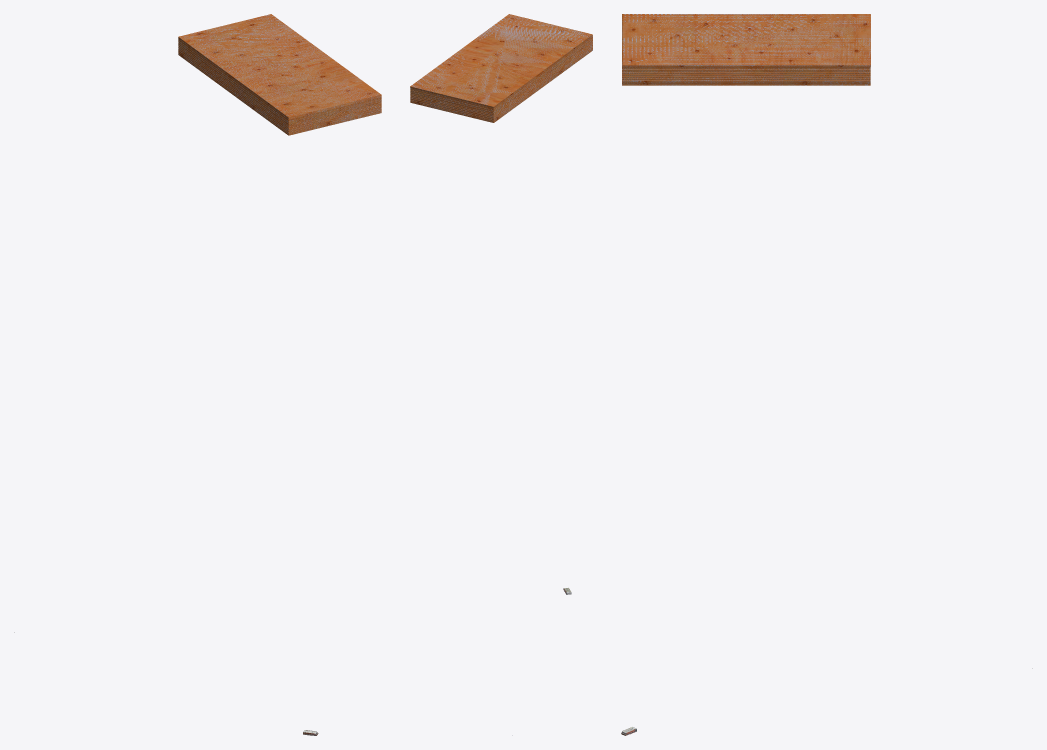
The model's file is PlywoodFacility.dae.
3 views of the same model, side by side, from view 1: azimuth 30°, elevation 25°; view 2: azimuth 150°, elevation 25°; view 3: azimuth 270°, elevation 25° (orthographic). The views are drawn at different scales.
Visible parts, largest first — view 1: SketchUp; view 2: SketchUp; view 3: SketchUp.
Part boxes in pixels (<box>): SketchUp: <box>178,14,381,135</box>; SketchUp: <box>410,14,592,122</box>; SketchUp: <box>622,14,870,85</box>.
Size of the model in its own units: 3936 by 6707 by 12690.
